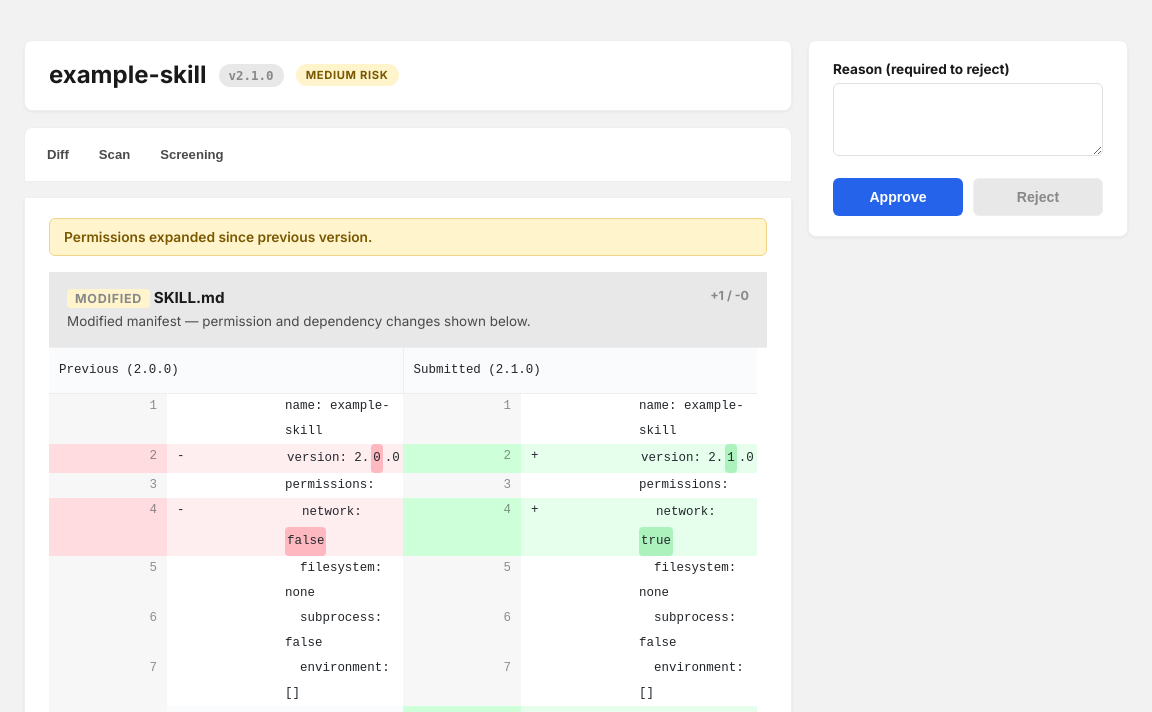
Test: ReviewDetail › renders screening fetch failures without blocking the decision panel
Expected: the heading "example-skill" is shown, [49,61,207,90]
Click the tab "Screening": [192, 154] box [148,138,236,171]
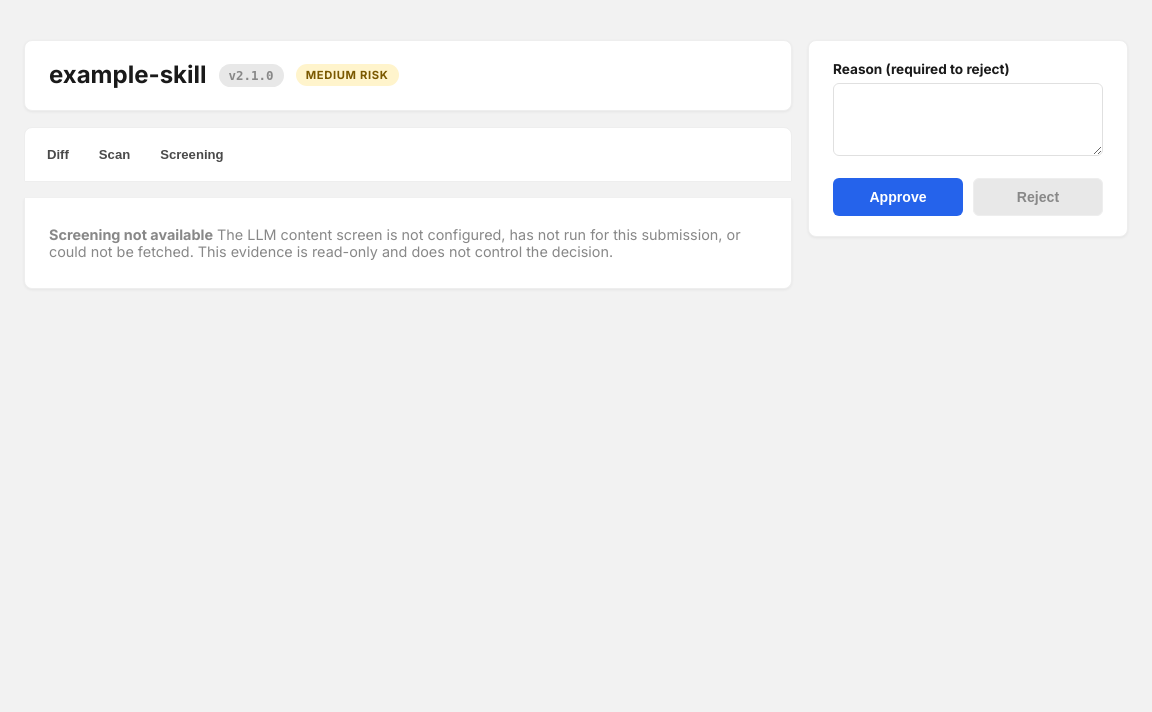
Expected: the panel "Screening" shows "Screening not available The LLM content screen", [24,198,792,289]
